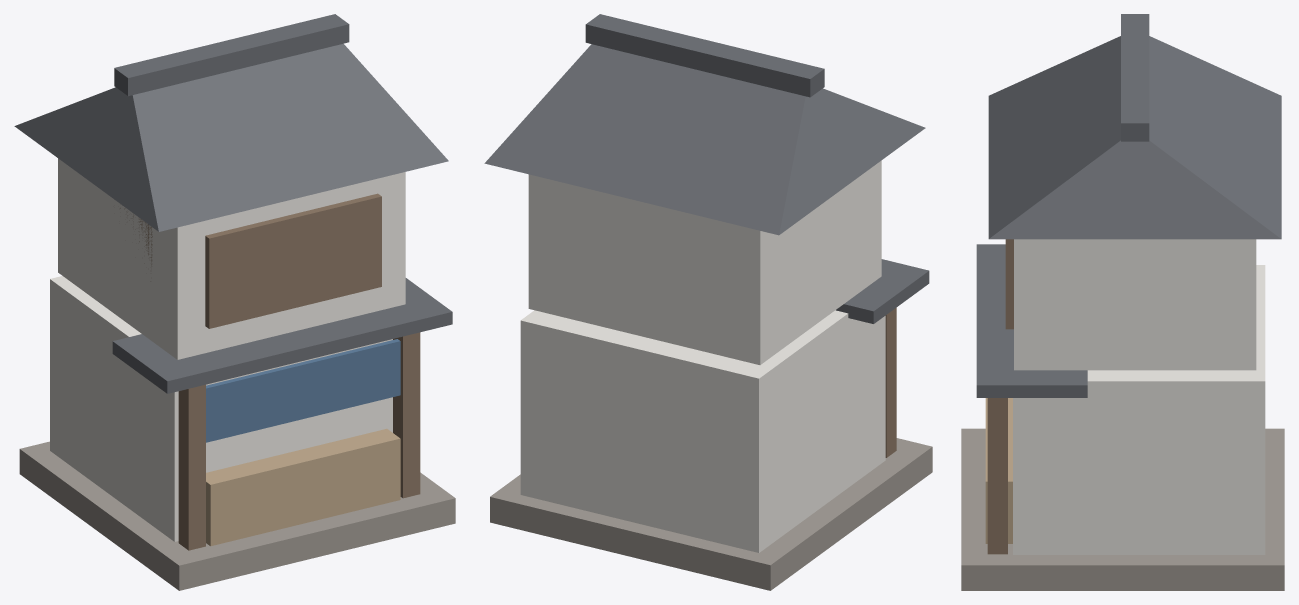
File: commercial_l2_machiya.glb
3 views of the same model, side by side, from view 1: azimuth 30°, elevation 25°; view 2: azimuth 150°, elevation 25°; view 3: azimuth 270°, elevation 25° (orthographic).
Visible parts, largest first — view 1: Upper_Roof, Upper_Living, Ground_Shop, Stone_Base, Upper_Lattice_F, Shop_Counter, Shop_Awning, Wide_Noren, Upper_Ridge, Col_L, Col_R; view 2: Ground_Shop, Upper_Roof, Upper_Living, Stone_Base, Upper_Ridge, Shop_Awning, Col_L; view 3: Upper_Roof, Ground_Shop, Upper_Living, Stone_Base, Shop_Awning, Upper_Ridge, Col_R, Shop_Counter, Upper_Lattice_F.
Boxes of the visible parts, x1,y1,x2,y2 form: Upper_Roof: (14,43,448,231); Upper_Living: (58,158,405,359); Ground_Shop: (50,276,392,541); Stone_Base: (19,441,455,590); Upper_Lattice_F: (205,193,381,328); Shop_Counter: (206,428,400,546); Shop_Awning: (112,278,452,393); Wide_Noren: (206,339,400,442); Upper_Ridge: (114,14,349,96); Col_L: (178,384,205,550); Col_R: (393,332,420,498); Ground_Shop: (520,310,885,552); Upper_Roof: (484,44,925,235); Upper_Living: (528,160,881,364); Stone_Base: (490,438,932,590); Upper_Ridge: (585,14,824,97); Shop_Awning: (836,259,929,323); Col_L: (885,307,896,457); Upper_Roof: (988,36,1281,239); Ground_Shop: (1013,265,1265,554); Upper_Living: (1014,239,1256,370); Stone_Base: (961,428,1284,590); Shop_Awning: (976,244,1087,397); Upper_Ridge: (1121,14,1149,141); Col_R: (987,398,1007,554); Shop_Counter: (985,398,1012,543); Upper_Lattice_F: (1005,239,1013,329).
Size of the model in its own units: 1.68 by 2.48 by 1.6.
